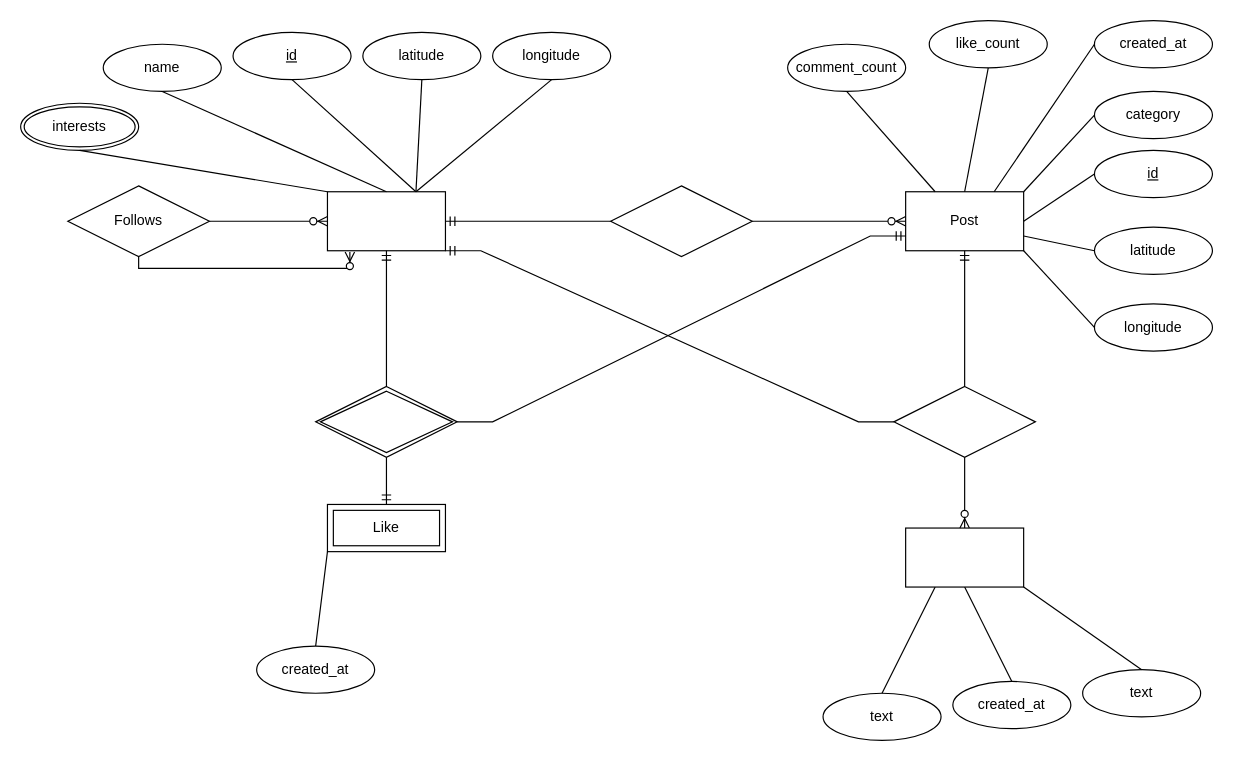
The diagram is 1233 pixels wide and 761 high, and some of its shapes have lost their labels. The centre of each missing label's shape, as x and y in pixels:
"Comment" goes at point 964,557.
"Comments" goes at point 964,421.
"Creates" goes at point 680,221.
"Likes" goes at point 385,421.
"User" goes at point 385,221.
